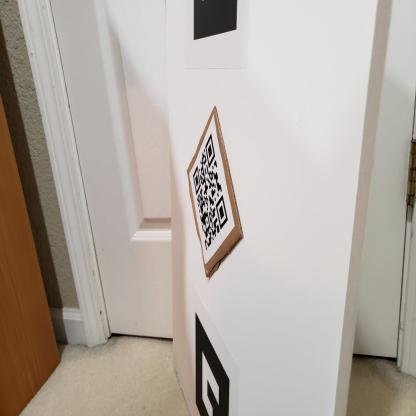qr: (185, 131, 235, 246)
